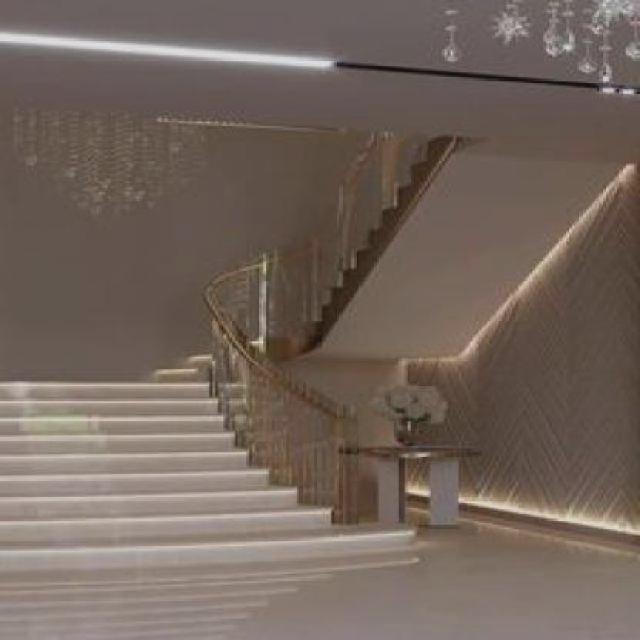stair: (1, 352, 457, 571)
